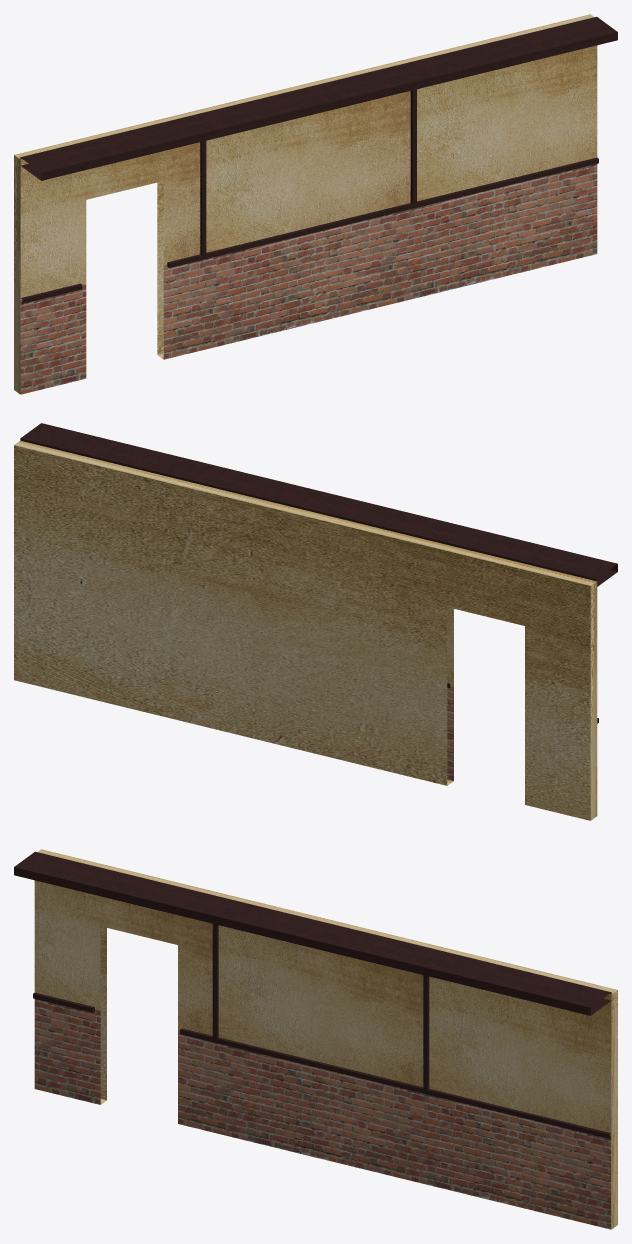
File: Wall 2.FBX
The picture shows the model from 3 angles, top to bottom: view 1: azimuth 30°, elevation 25°; view 2: azimuth 150°, elevation 25°; view 3: azimuth 330°, elevation 25°; orthographic projection.
Visible parts, largest first — view 1: wall 2; view 2: wall 2; view 3: wall 2.
Part boxes in pixels (x1,y1,x2,y2): wall 2: [14, 14, 617, 394]; wall 2: [14, 423, 617, 820]; wall 2: [14, 849, 617, 1229].
Bounding box in the file's own units: 7681 × 631 × 3019.
Materials: 3 (3 with a texture image).
